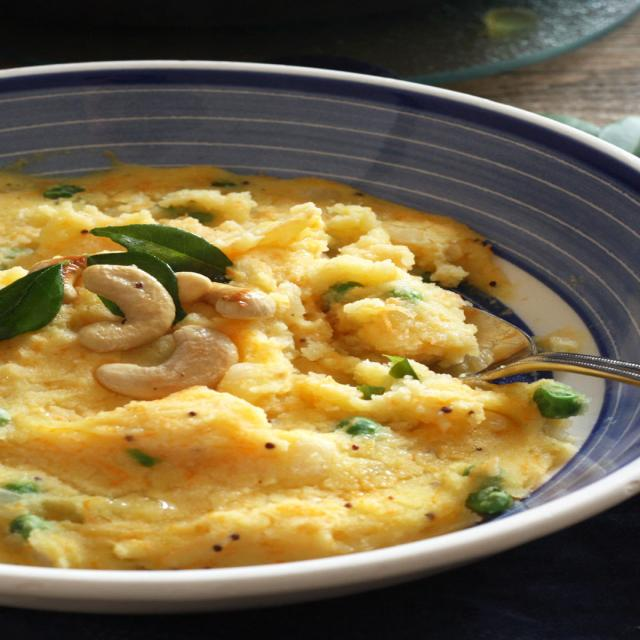UPMA: (0, 166, 581, 565)
